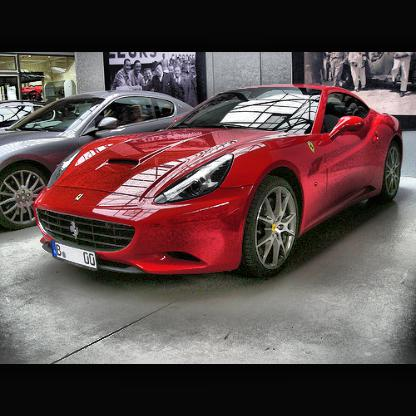Ferrari California Convertible 2012: (32, 85, 405, 279)
